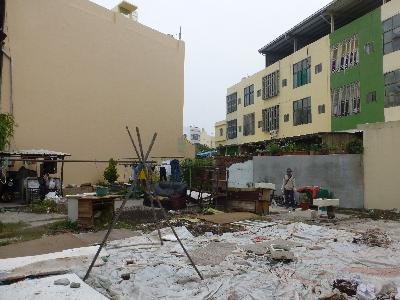plastic_bag: (75, 219, 398, 300)
styrofoam: (269, 242, 295, 261), (313, 196, 341, 210)
